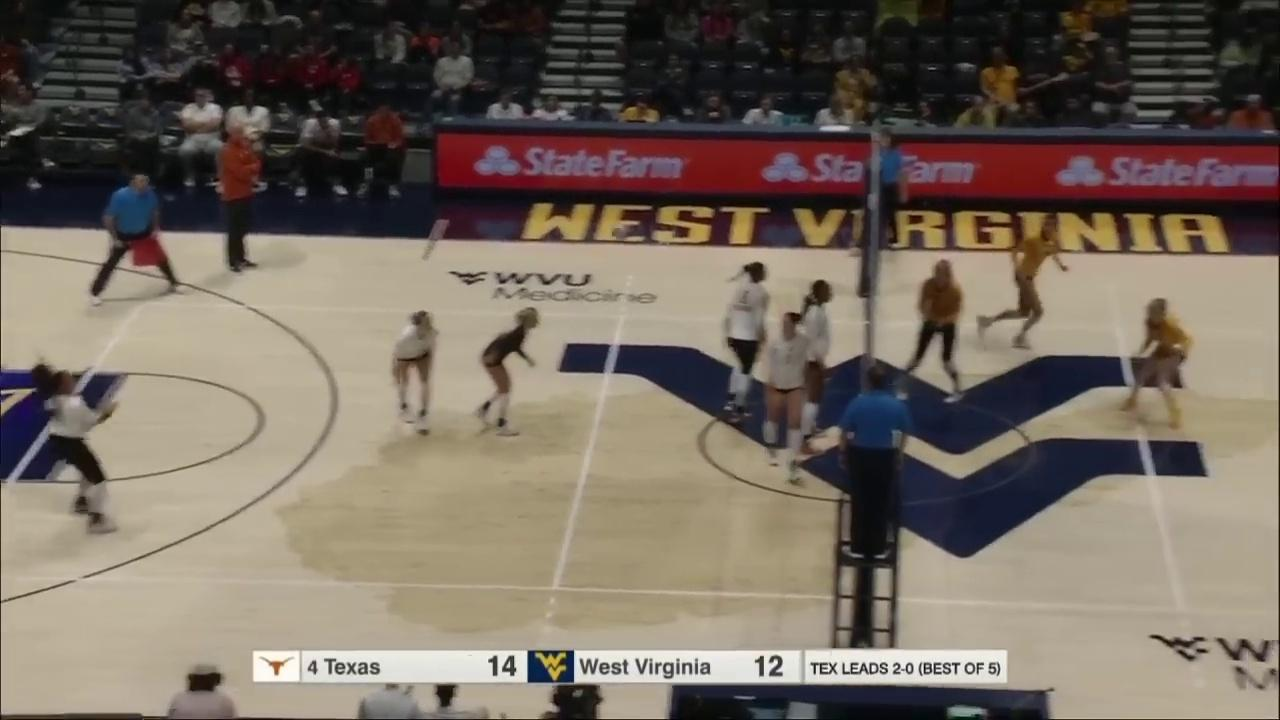player: (43, 369, 121, 536), (979, 217, 1069, 350), (898, 259, 967, 401), (1123, 297, 1194, 433), (475, 308, 541, 436), (763, 311, 811, 487), (721, 261, 769, 419), (796, 281, 835, 456), (389, 309, 440, 437)
refree: (840, 367, 912, 553), (90, 171, 187, 303), (863, 130, 907, 249)
